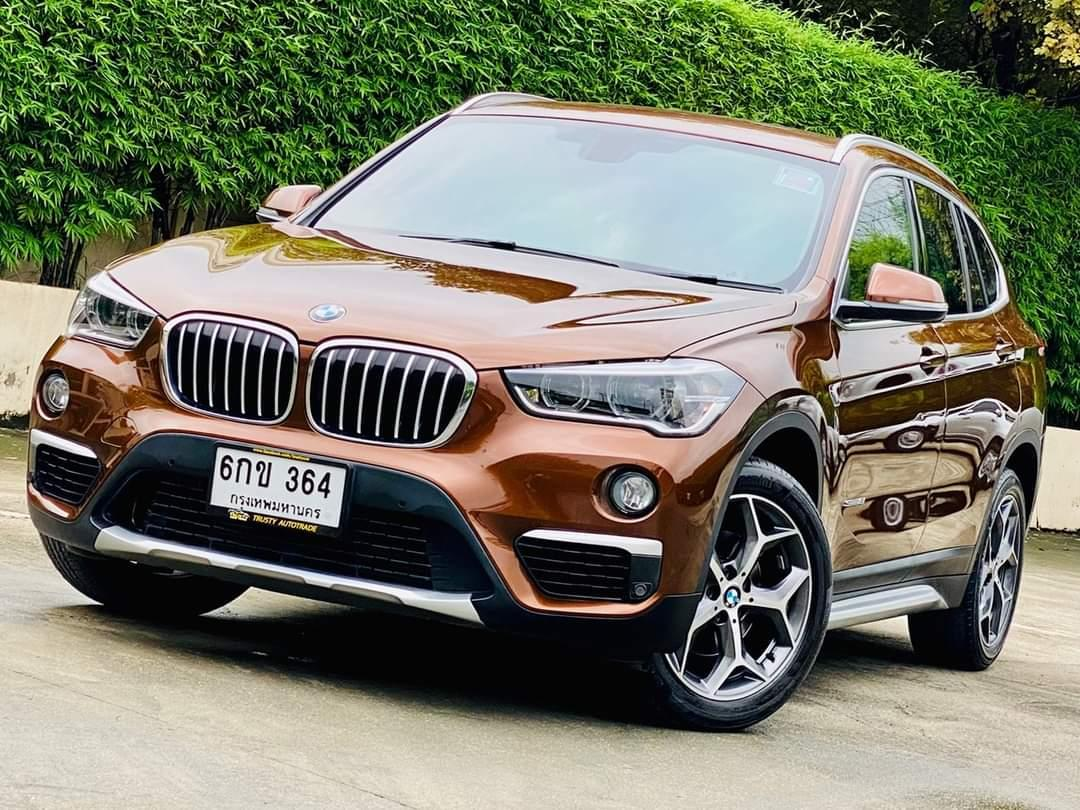license-plate: (205, 436, 356, 547)
